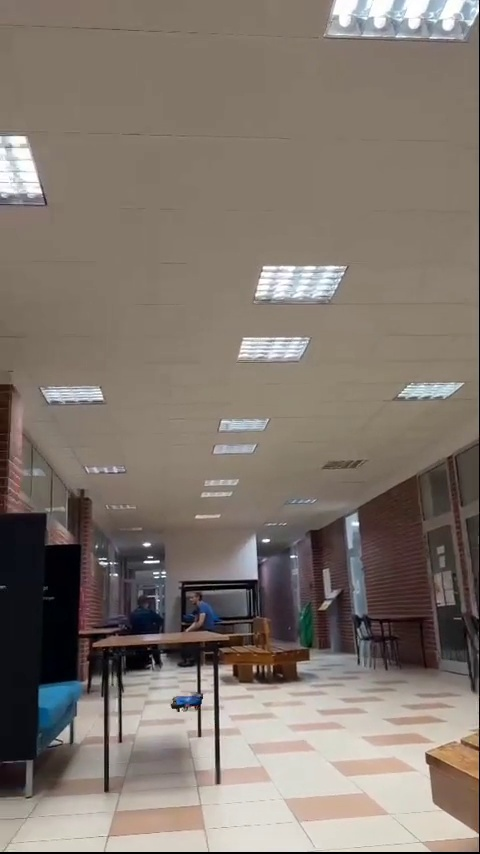drone: (169, 693, 206, 712)
no vest: (188, 594, 216, 635), (134, 597, 162, 634)
